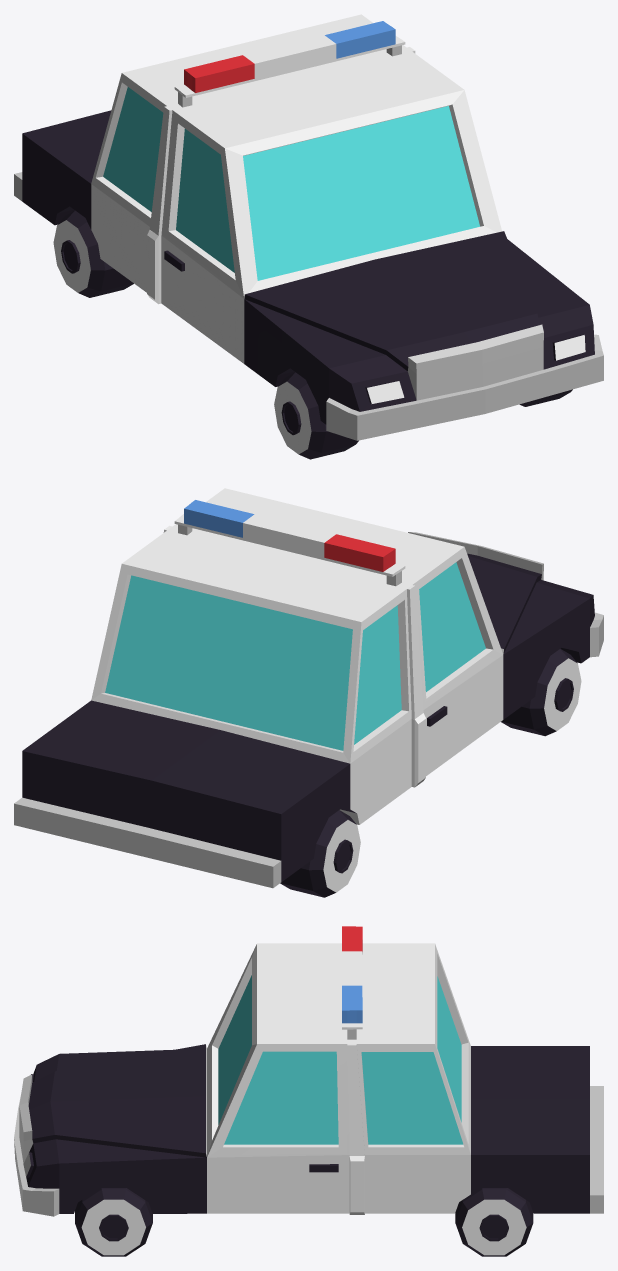
Rendered from cop1.fbx.
The picture shows the model from 3 angles, top to bottom: view 1: azimuth 30°, elevation 25°; view 2: azimuth 150°, elevation 25°; view 3: azimuth 270°, elevation 25°; orthographic projection. The views are drawn at different scales.
Visible parts, largest first — view 1: CopCar; view 2: CopCar; view 3: CopCar.
Part boxes in pixels (bbox=[...]): CopCar: bbox=[14, 14, 603, 459]; CopCar: bbox=[14, 488, 603, 897]; CopCar: bbox=[14, 926, 603, 1256].
Size of the model in its own units: 31.56 by 29.92 by 67.86.
1 material, 1 textured.
